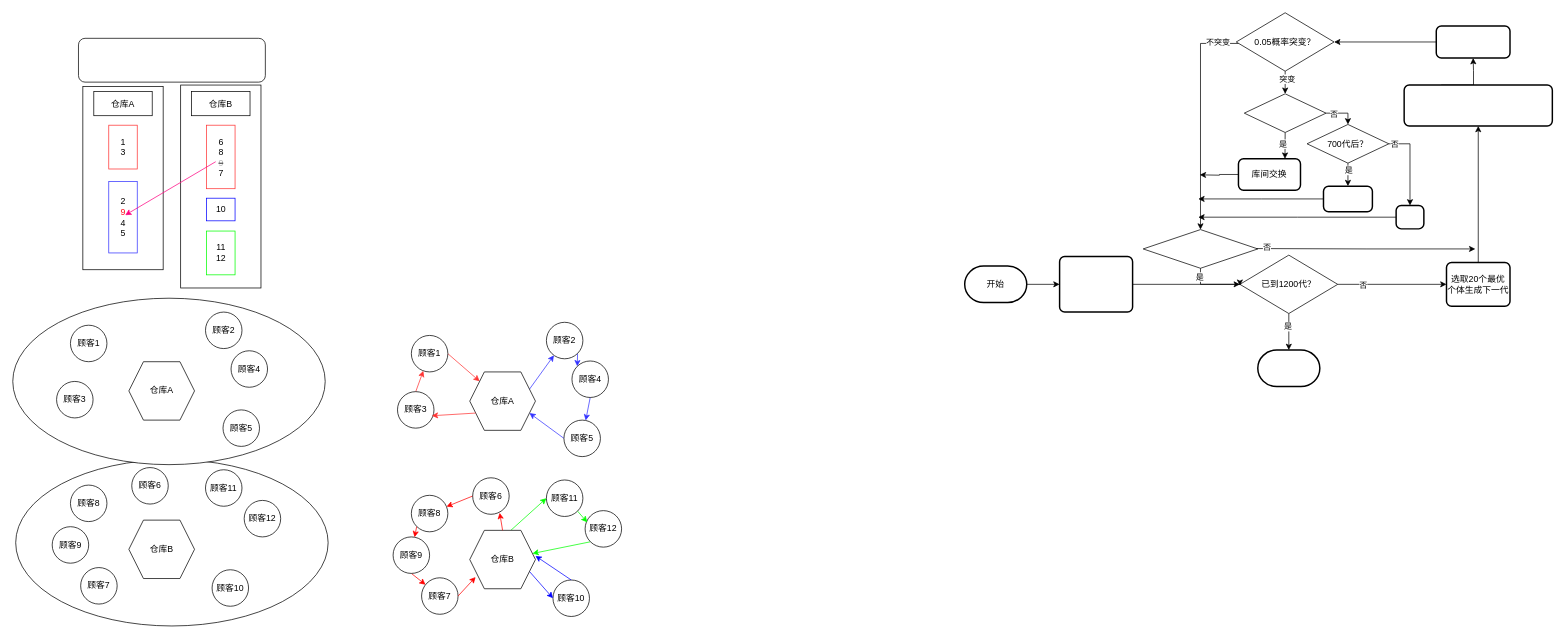
Some shapes in this 1566 by 639 pixel diagram are drawn without their labels. The shapes that lost their labels are listed below. From the top down, each one's centre as x and y in pixels, then its label:
At point (171, 60): "染色体".
At point (1472, 41): "0.8概率交叉互换".
At point (1285, 112): "是否整十代？".
At point (1478, 105): "0.8概率抽2择1，0.2概率直接选取。 以此方式生成两个亲代".
At point (1347, 198): "重定位".
At point (1409, 216): "逆序".
At point (1200, 248): "子代已有100个？".
At point (1095, 284): "随机生成100个个体作为初始种群".
At point (1288, 368): "结束".
